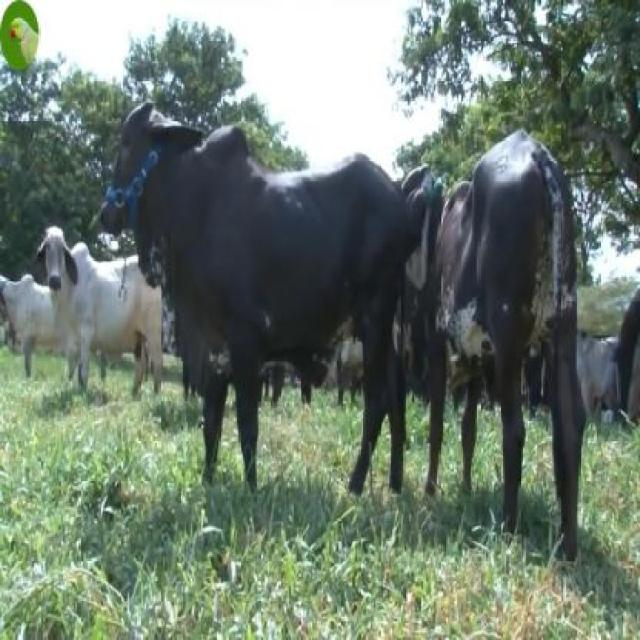Cow: (100, 101, 411, 502)
